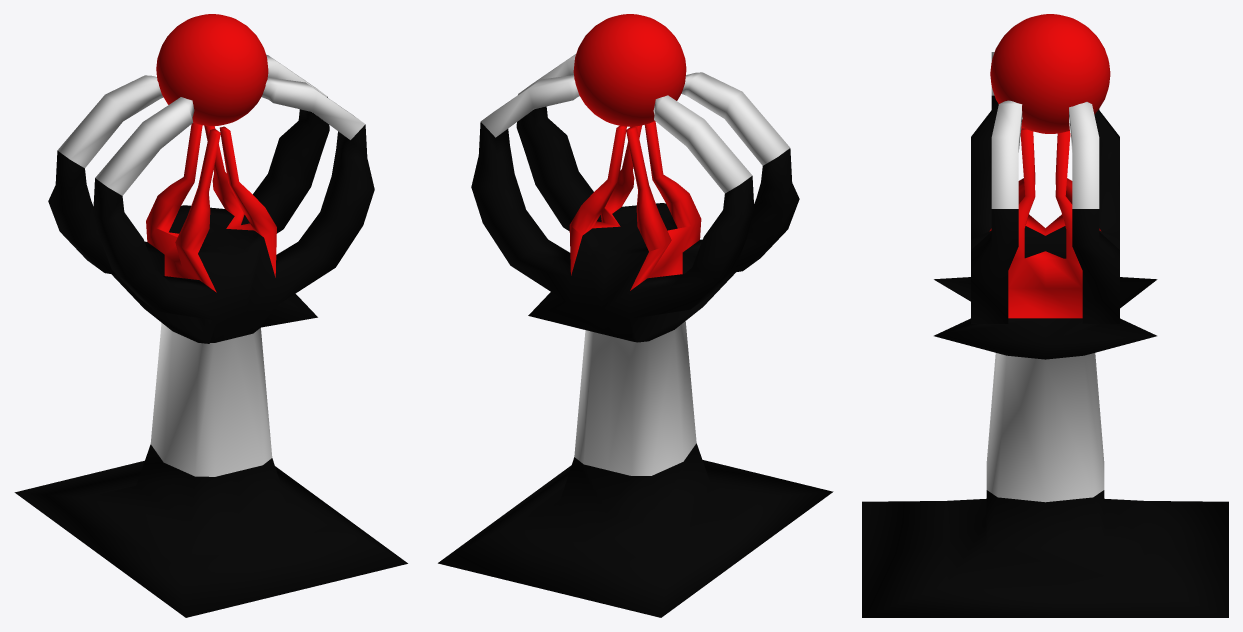
Rendered from tower2.2.fbx.
3 renders of one model, left to right at view 1: azimuth 30°, elevation 25°; view 2: azimuth 150°, elevation 25°; view 3: azimuth 270°, elevation 25°, orthographic. The views are drawn at different scales.
Parts seen in each view (by area): view 1: Sphere; view 2: Sphere; view 3: Sphere.
Part boxes in pixels (box(x1,y1,x2,y2)): Sphere: box(14, 14, 407, 617); Sphere: box(438, 14, 833, 617); Sphere: box(862, 14, 1228, 617).
Size of the model in its own units: 391 by 723 by 444.
